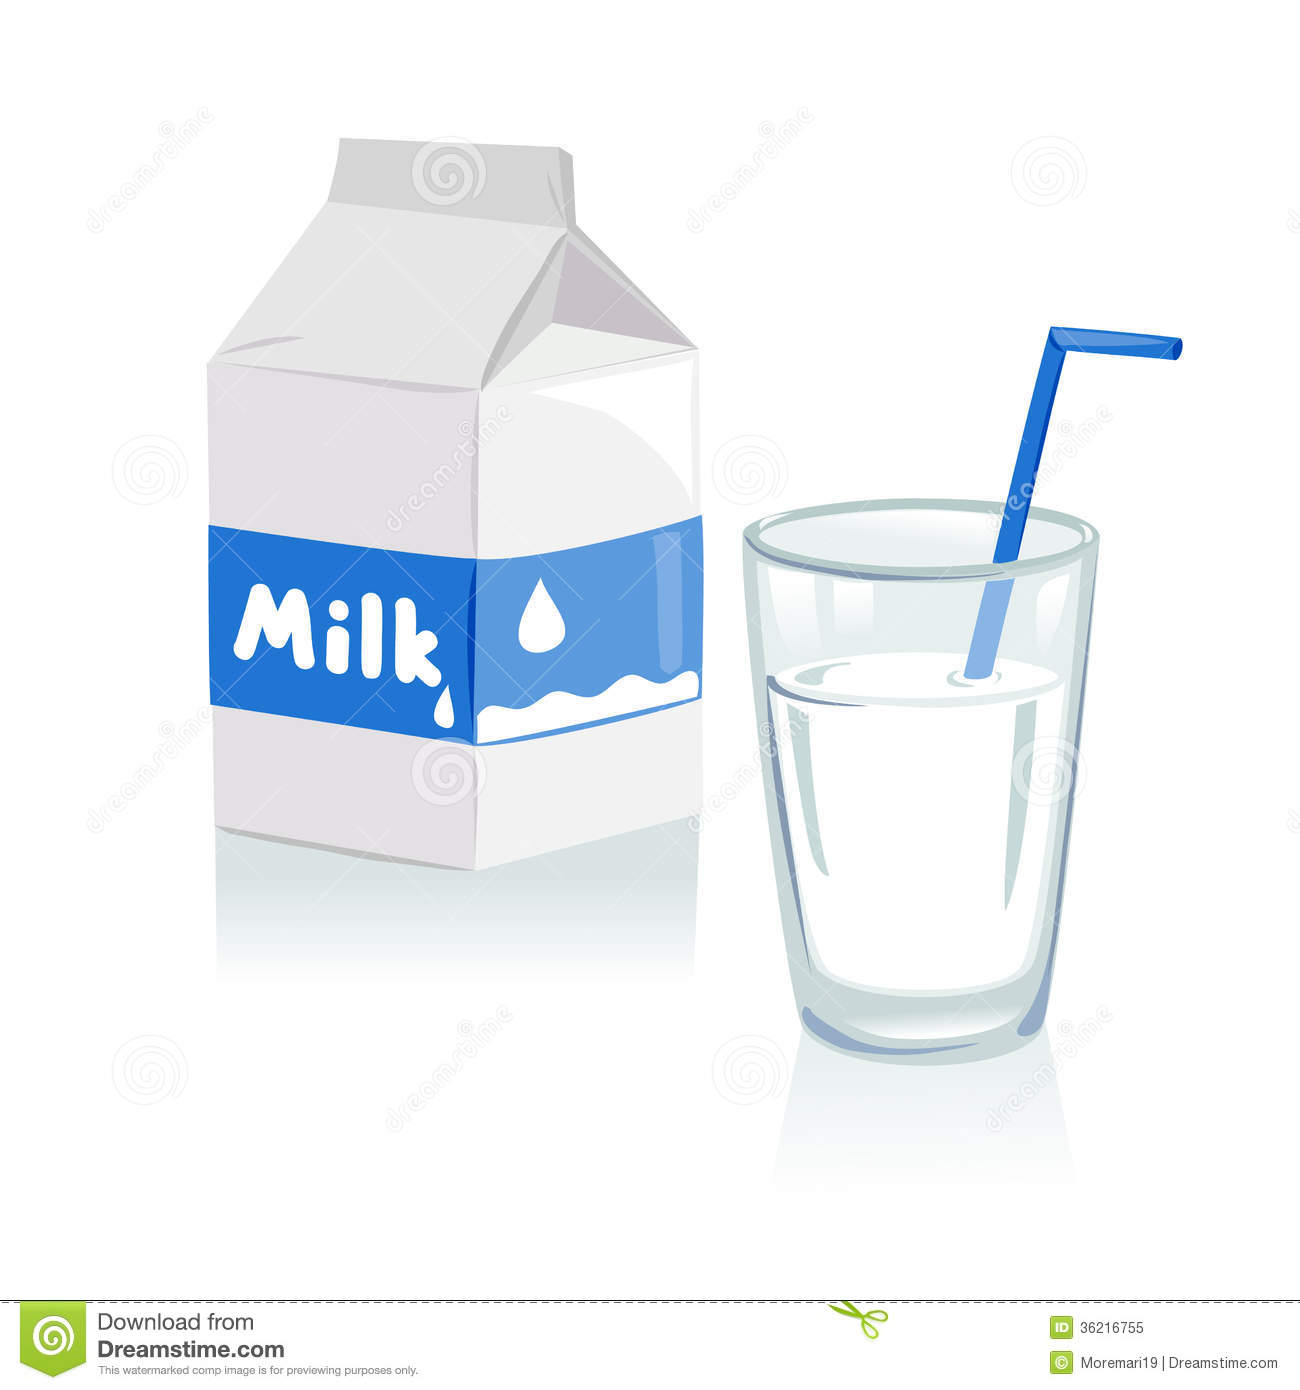glass of milk: (783, 581, 1067, 1022)
